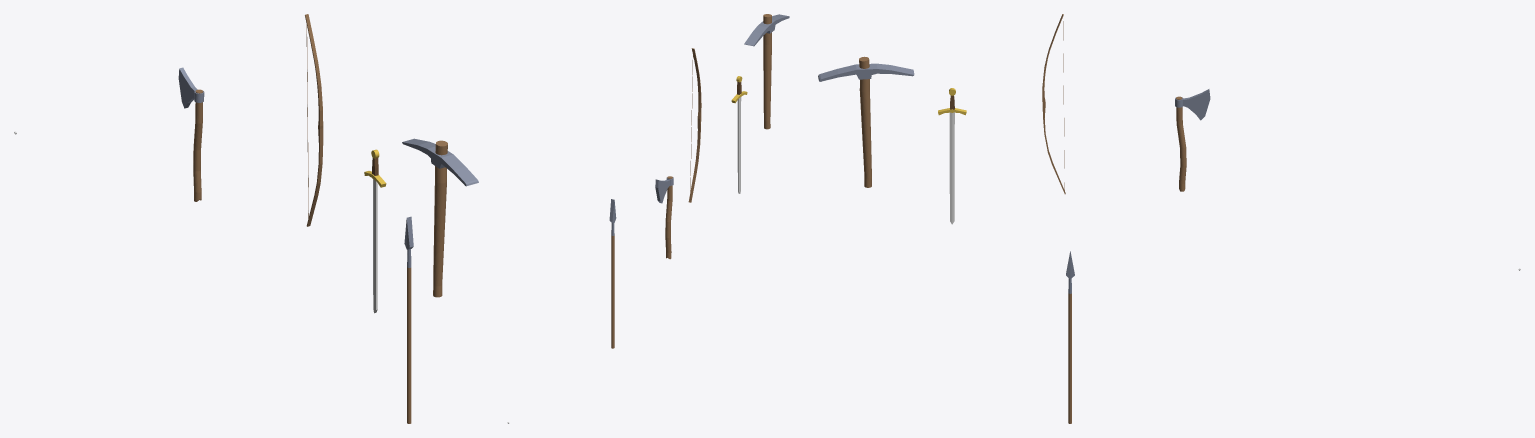
Rendered from Weapons.fbx.
3 views of the same model, side by side, from view 1: azimuth 30°, elevation 25°; view 2: azimuth 150°, elevation 25°; view 3: azimuth 270°, elevation 25° (orthographic). The views are drawn at different scales.
Visible parts, largest first — view 1: Cylinder.002, Cylinder.004, Cube.004, Cylinder.001, Cube; view 2: Cylinder.002, Cylinder.004, Cube.004, Cylinder.001, Cube; view 3: Cylinder.002, Cylinder.004.
Boxes of the visible parts, box(x1,y1,x2,y2) form: Cylinder.002: box(402, 138, 478, 297); Cylinder.004: box(178, 67, 204, 201); Cube.004: box(305, 14, 323, 226); Cylinder.001: box(407, 249, 411, 423); Cube: box(373, 179, 377, 313); Cylinder.002: box(744, 14, 789, 129); Cylinder.004: box(655, 176, 673, 259); Cube.004: box(688, 48, 701, 202); Cylinder.001: box(611, 222, 614, 348); Cube: box(737, 97, 741, 193); Cylinder.002: box(818, 56, 914, 187); Cylinder.004: box(1175, 89, 1210, 191).
Size of the model in its own units: 476 by 1314 by 2292.
